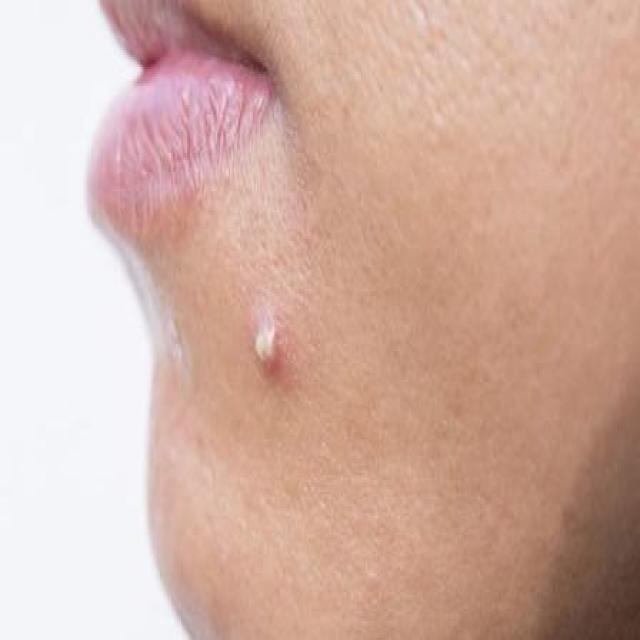blackheads: (250, 313, 283, 372)
